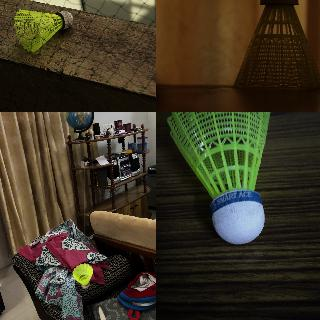shuttlecock: (167, 112, 272, 243), (233, 0, 319, 88), (13, 8, 72, 52), (72, 264, 92, 288)
